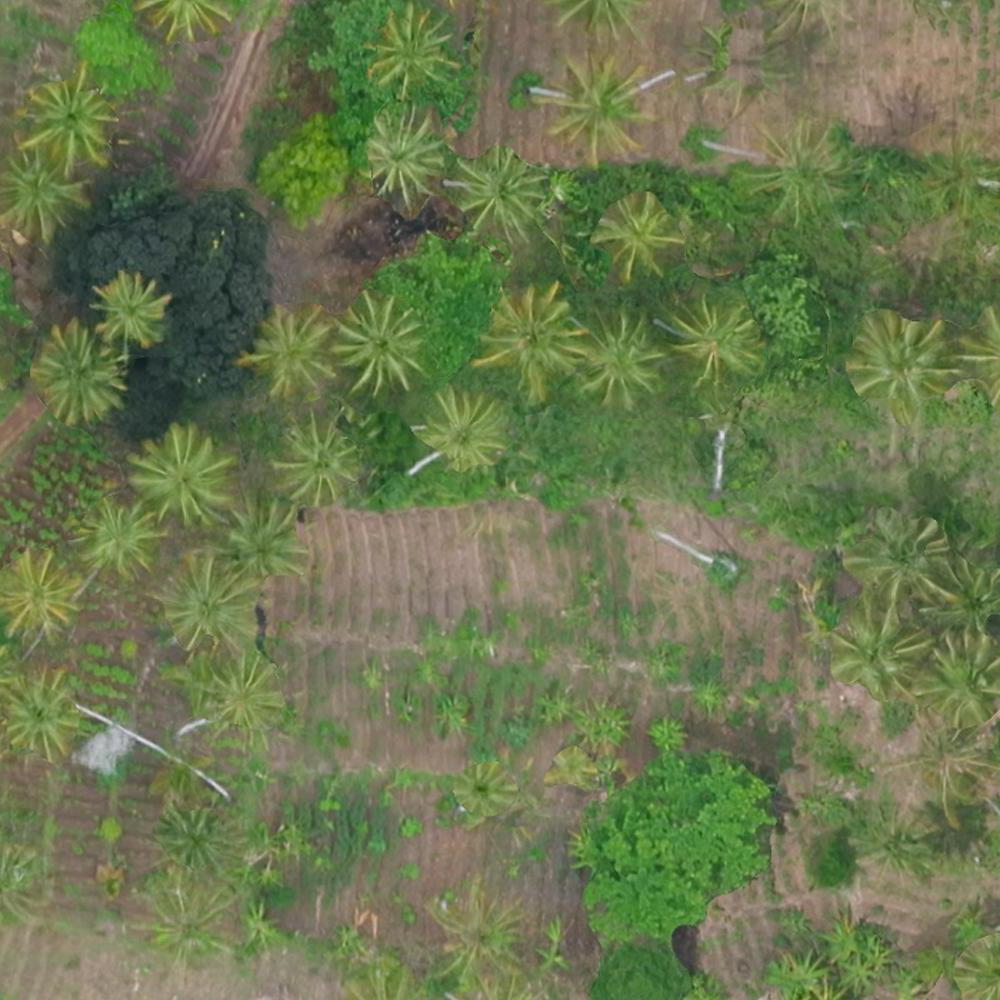Palm: (540, 57, 654, 160), (481, 280, 584, 393), (844, 308, 948, 414), (130, 425, 227, 532), (661, 289, 761, 385), (31, 325, 124, 424), (449, 147, 542, 243), (20, 74, 114, 165), (580, 306, 665, 406), (160, 555, 252, 646), (830, 611, 924, 697), (245, 306, 335, 392), (337, 294, 420, 386), (227, 495, 316, 580), (4, 668, 84, 761), (2, 149, 86, 234), (922, 628, 997, 722), (3, 549, 79, 640), (592, 191, 674, 275), (272, 416, 354, 500), (364, 111, 447, 193), (421, 388, 504, 467), (364, 9, 450, 84), (77, 507, 165, 579), (202, 654, 282, 731), (87, 275, 164, 348)
